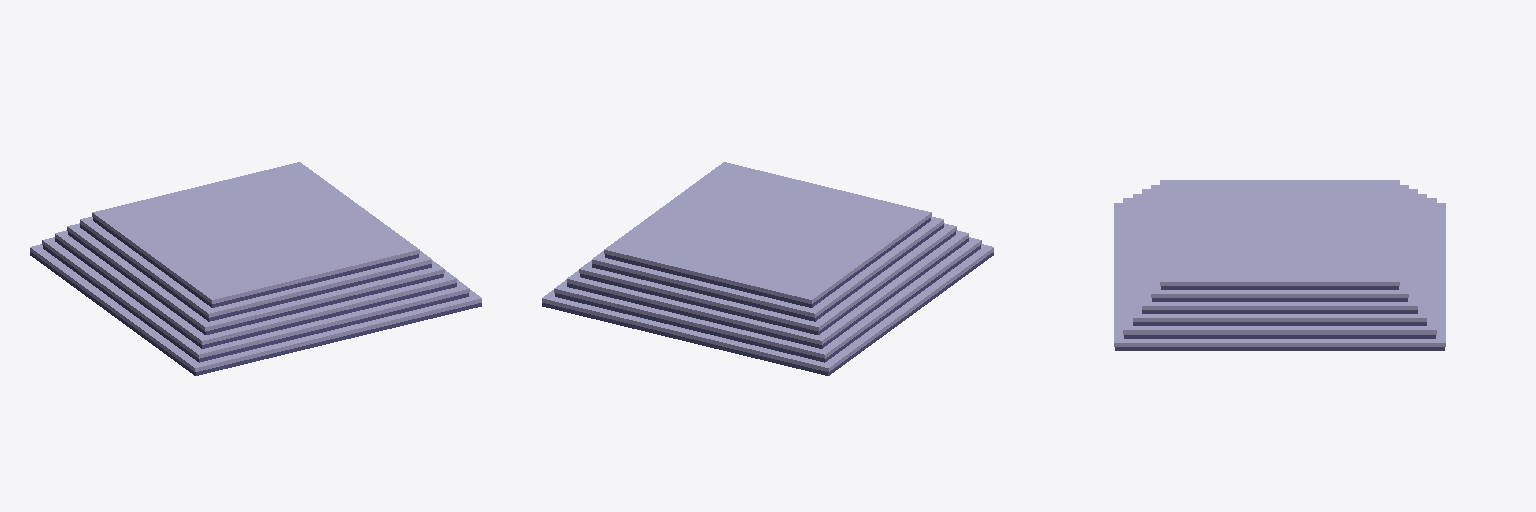
File: platform.obj
3 views of the same model, side by side, from view 1: azimuth 30°, elevation 25°; view 2: azimuth 150°, elevation 25°; view 3: azimuth 270°, elevation 25° (orthographic).
Visible parts, largest first — view 1: mergedBlocks; view 2: mergedBlocks; view 3: mergedBlocks.
Part boxes in pixels (x1,y1,x2,y2): mergedBlocks: (30, 162, 481, 375); mergedBlocks: (542, 162, 993, 375); mergedBlocks: (1114, 180, 1445, 350).
Bounding box in the file's own units: 6.02 × 1 × 6.02.